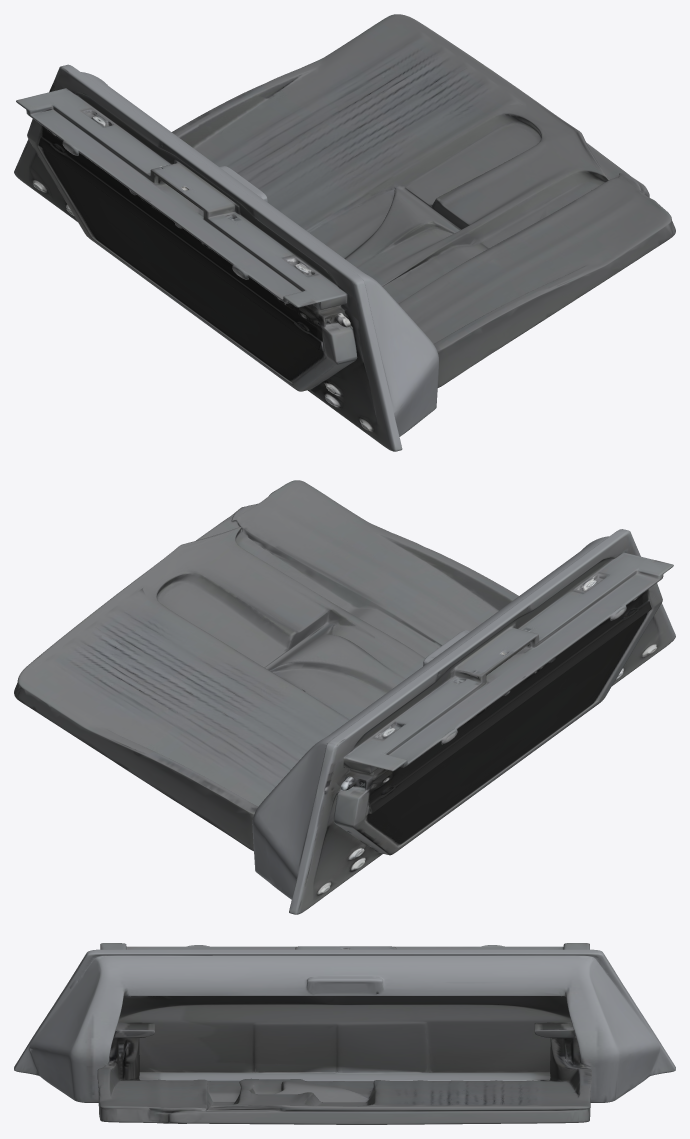
3 renders of one model, top to bottom at view 1: azimuth 30°, elevation 25°; view 2: azimuth 150°, elevation 25°; view 3: azimuth 270°, elevation 25°, orthographic. The views are drawn at different scales.
Parts seen in each view (by area): view 1: node_0.005; view 2: node_0.005; view 3: node_0.005.
Boxes of the visible parts, box(x1,y1,x2,y2) form: node_0.005: box(14, 14, 675, 451); node_0.005: box(14, 480, 675, 914); node_0.005: box(14, 943, 675, 1124).
Bounding box in the file's own units: 0.3577 × 0.1241 × 0.5952.
1 material, 1 textured.
